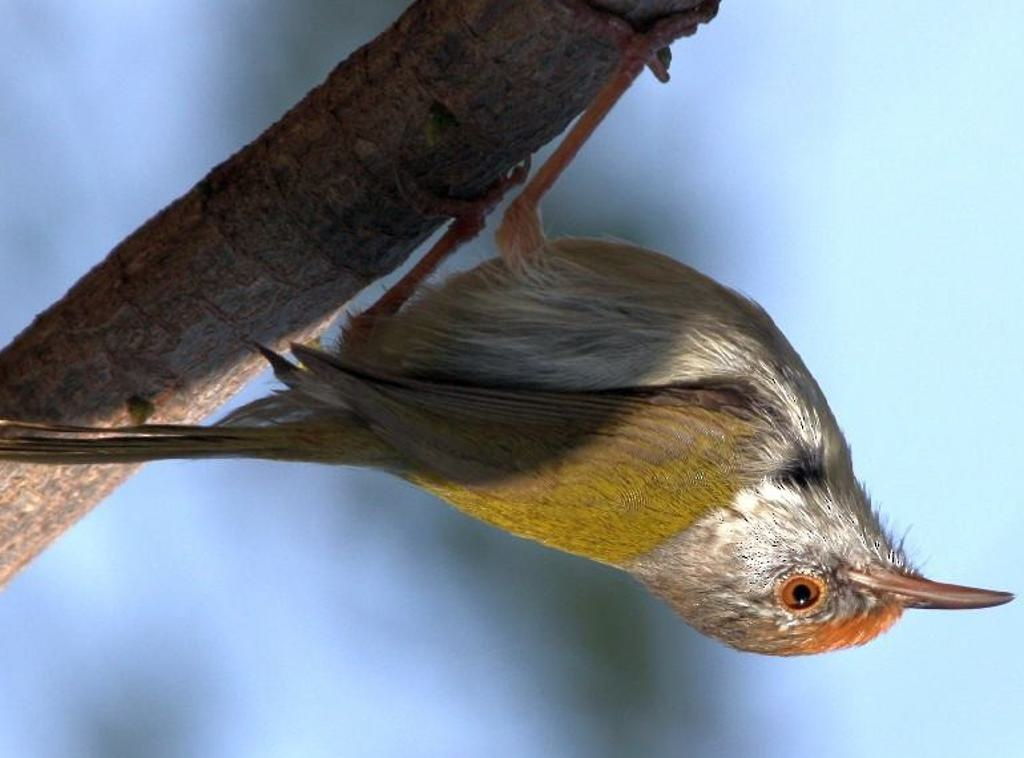tailorbird: (162, 157, 1023, 691)
